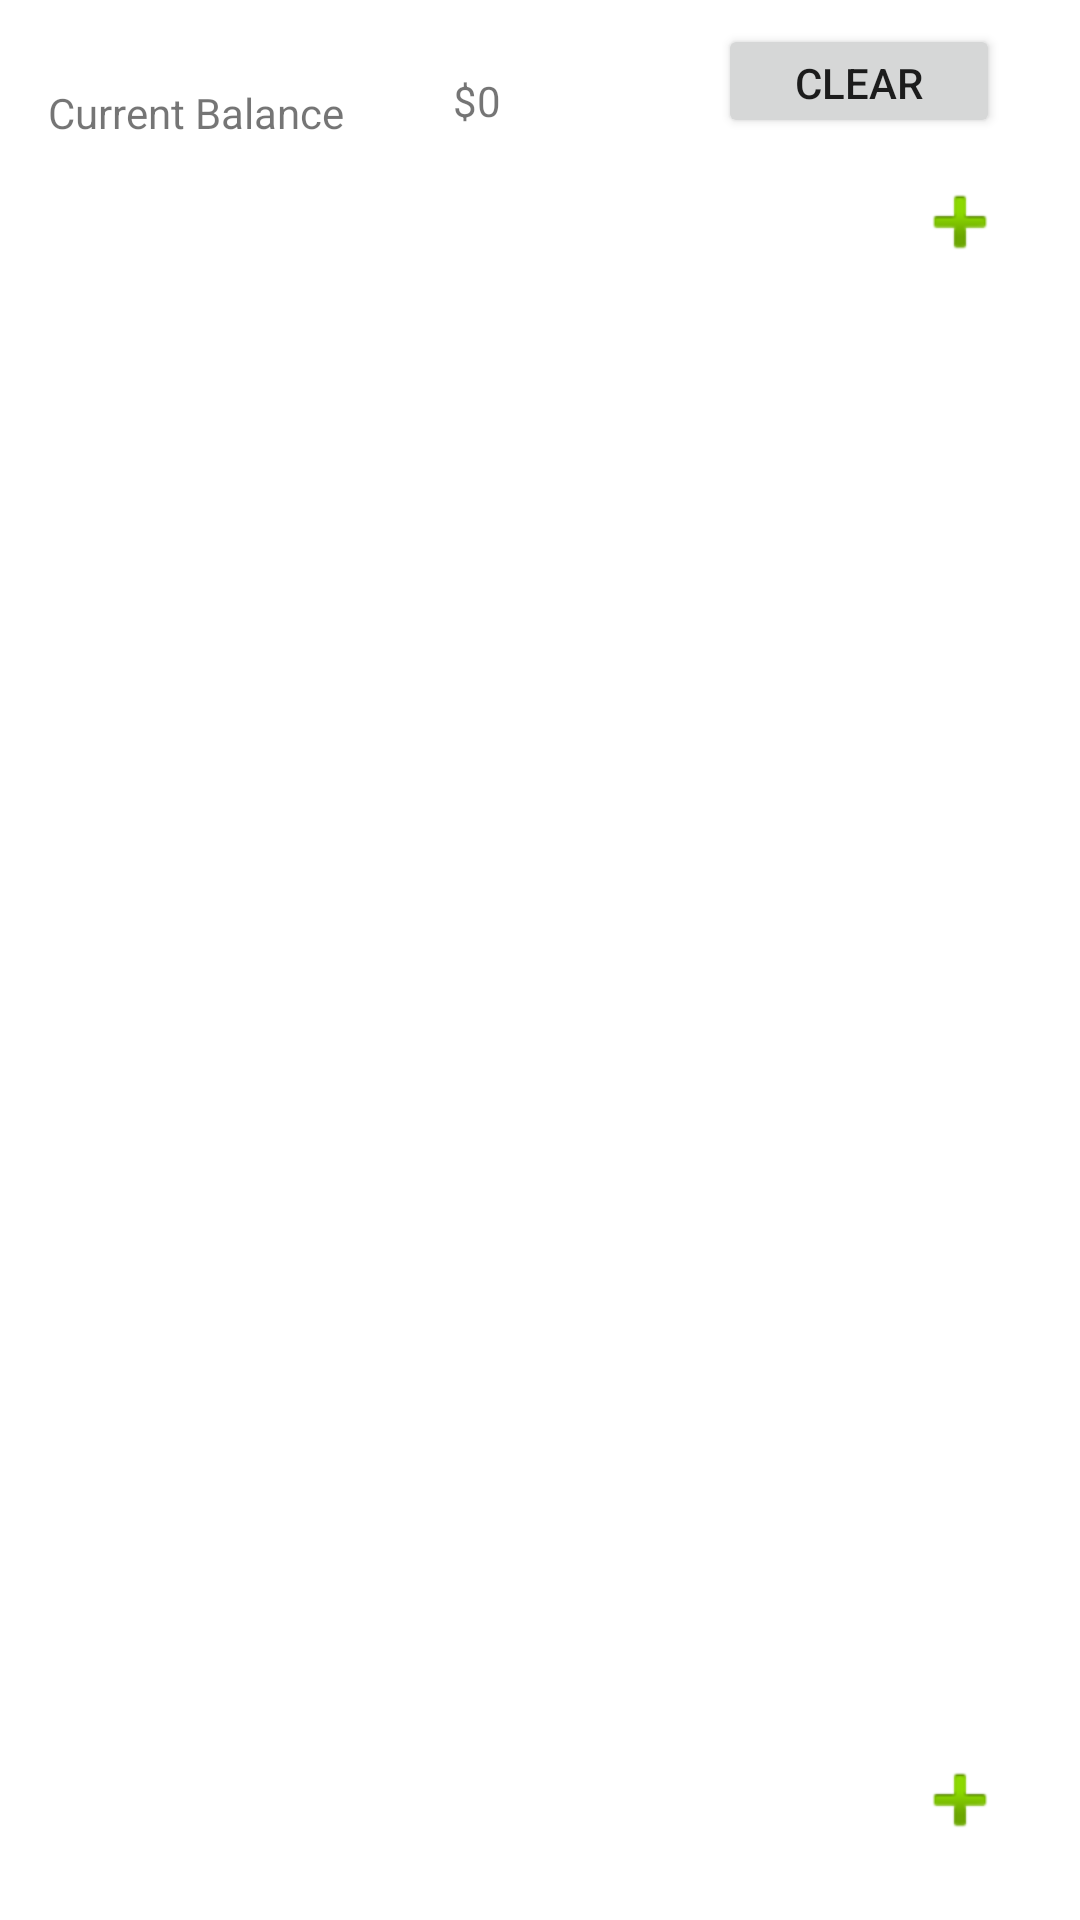

Named icons in this screenshot (1080 x 1920) and their bounding boxes, (x1, y1, x2, y2):
add: (933, 195, 987, 249), (933, 1773, 987, 1827)
